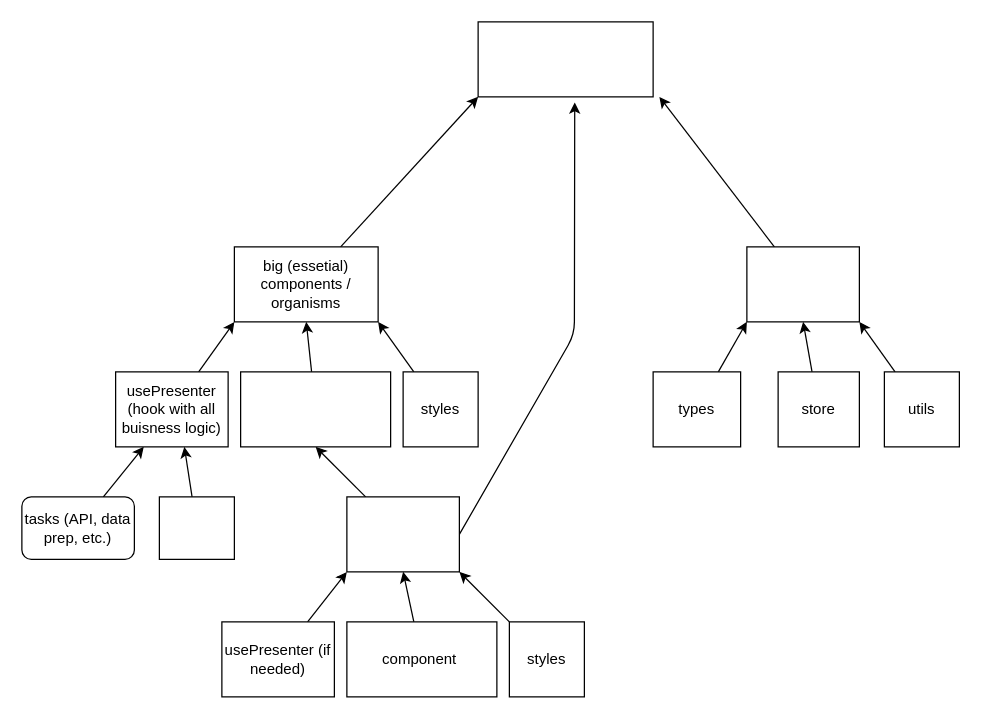
Some shapes in this 981 by 719 pixel diagram are drawn without their labels. Each missing label, with the box of its shape:
component (only view, all handlers and data comes from usePresenter): (239, 371, 391, 447)
data structures and helpers: (746, 246, 859, 322)
hooks: (158, 496, 234, 559)
Module: (477, 21, 653, 97)
small (shared) components: (346, 496, 459, 572)
